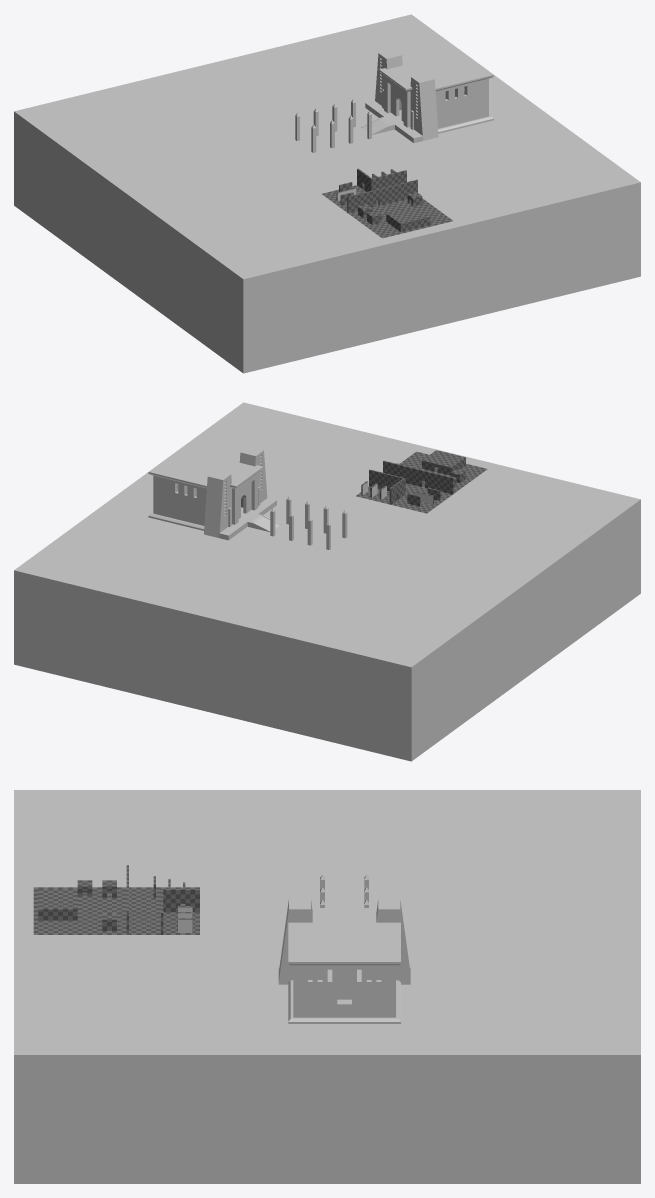
The model's file is sandbox.obj.
3 renders of one model, top to bottom at view 1: azimuth 30°, elevation 25°; view 2: azimuth 150°, elevation 25°; view 3: azimuth 270°, elevation 25°, orthographic. The views are drawn at different scales.
Parts seen in each view (by area): view 1: slot49, slot41, slot1, slot42; view 2: slot49, slot41, slot1, slot42; view 3: slot49, slot41, slot1.
Part boxes in pixels (x1=…): slot49: x1=14, y1=14, x2=640, y2=373; slot41: x1=361, y1=44, x2=493, y2=142; slot1: x1=322, y1=168, x2=452, y2=238; slot42: x1=295, y1=89, x2=455, y2=152; slot49: x1=14, y1=402, x2=640, y2=761; slot41: x1=148, y1=442, x2=281, y2=540; slot1: x1=356, y1=450, x2=487, y2=513; slot42: x1=187, y1=486, x2=347, y2=549; slot49: x1=14, y1=790, x2=640, y2=1183; slot41: x1=278, y1=899, x2=410, y2=1023; slot1: x1=33, y1=865, x2=199, y2=934.
Size of the model in its own units: 2048 by 736 by 2048.
